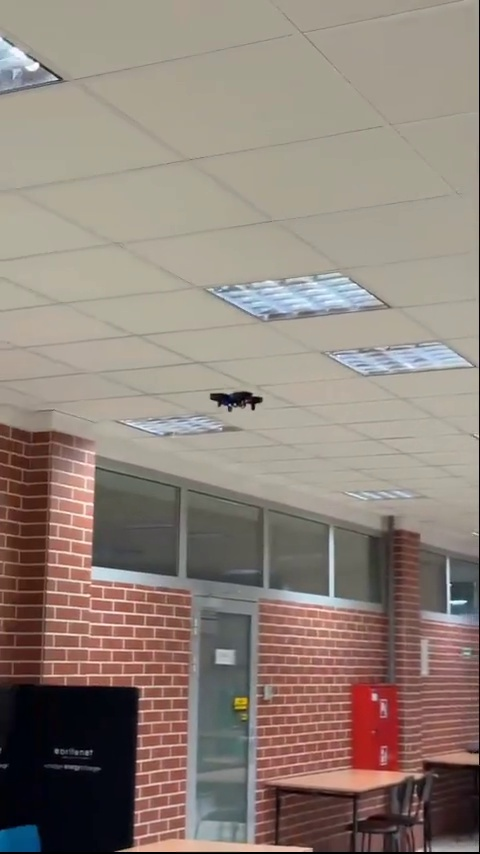drone: (209, 387, 266, 414)
